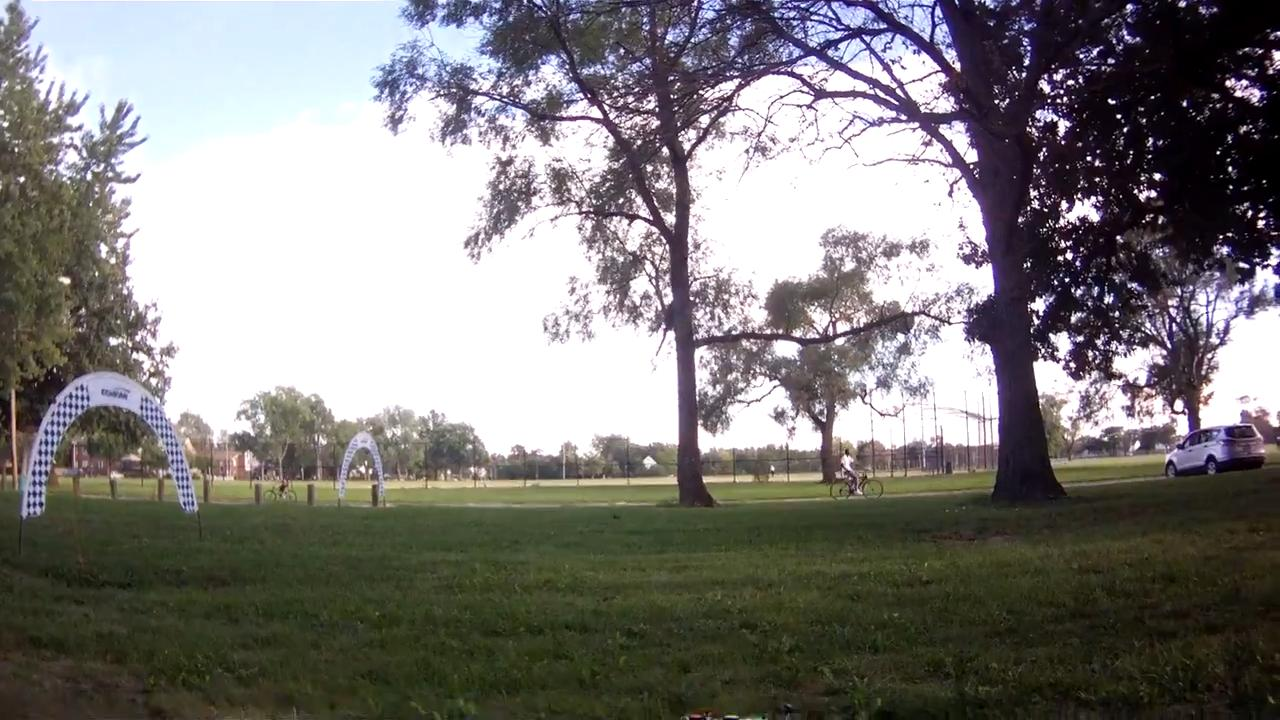gate: (23, 369, 202, 519)
